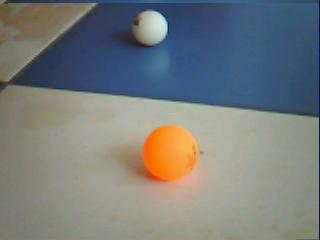oball: (143, 124, 198, 181)
